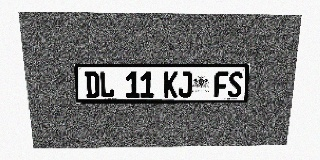1: (125, 71, 140, 98), (140, 71, 154, 98)
D: (84, 71, 100, 98)
F: (214, 72, 229, 98)
J: (178, 72, 192, 98)
K: (164, 71, 178, 98)
L: (99, 71, 114, 98)
S: (228, 72, 243, 97)
